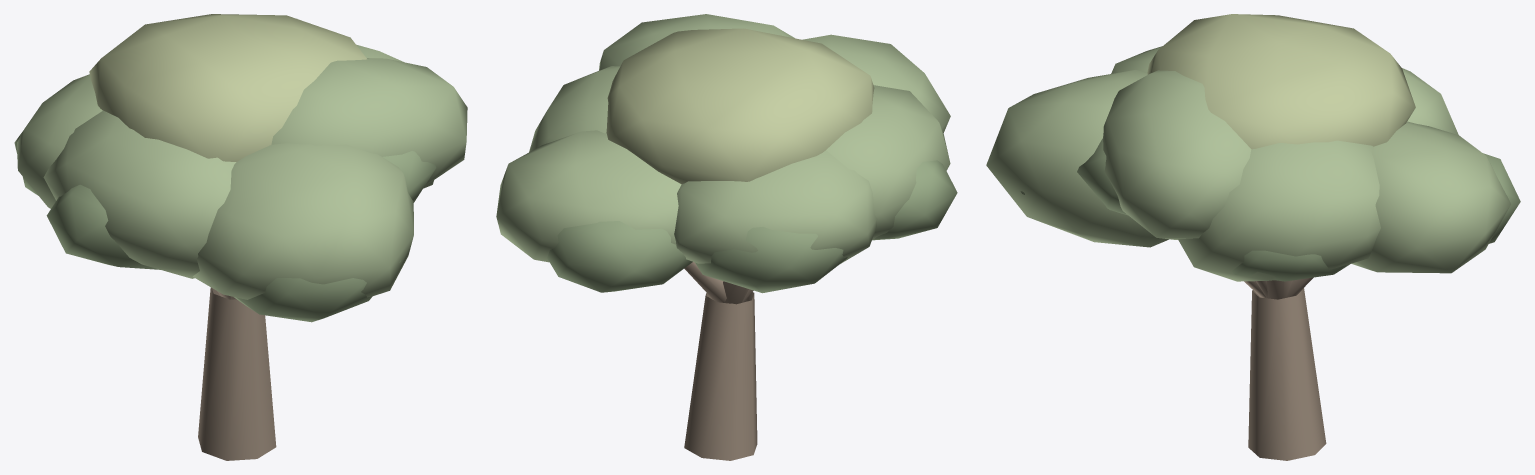
The model's file is tree_ombu_8.glb.
The picture shows the model from 3 angles, left to right: view 1: azimuth 30°, elevation 25°; view 2: azimuth 150°, elevation 25°; view 3: azimuth 270°, elevation 25°; orthographic projection. The views are drawn at different scales.
Parts seen in each view (by area): view 1: tree_ombu_8.glb; view 2: tree_ombu_8.glb; view 3: tree_ombu_8.glb.
Part boxes in pixels (bbox=[...]): tree_ombu_8.glb: bbox=[14, 14, 467, 460]; tree_ombu_8.glb: bbox=[496, 14, 957, 460]; tree_ombu_8.glb: bbox=[986, 14, 1520, 460].
Size of the model in its own units: 5.4 by 5.48 by 6.57.
